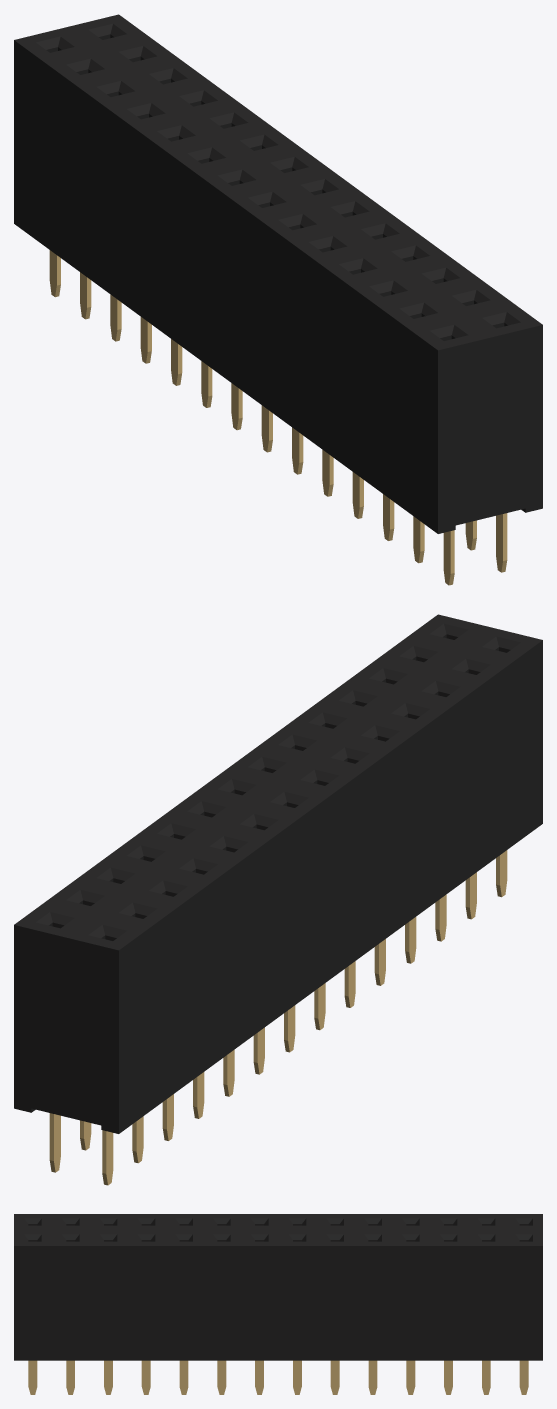
Rendered from kc-pinsocket_2x14_p2.54mm_vertical.glb.
The picture shows the model from 3 angles, top to bottom: view 1: azimuth 30°, elevation 25°; view 2: azimuth 150°, elevation 25°; view 3: azimuth 270°, elevation 25°; orthographic projection. The views are drawn at different scales.
Visible parts, largest first — view 1: 0_0_0_0, 0.75_0.5_0.25_0.9; view 2: 0_0_0_0, 0.75_0.5_0.25_0.9; view 3: 0_0_0_0, 0.75_0.5_0.25_0.9.
Boxes of the visible parts, box(x1,y1,x2,y2) form: 0_0_0_0: box(14, 14, 542, 533); 0.75_0.5_0.25_0.9: box(49, 250, 507, 585); 0_0_0_0: box(14, 614, 542, 1133); 0.75_0.5_0.25_0.9: box(49, 850, 507, 1185); 0_0_0_0: box(14, 1214, 542, 1360); 0.75_0.5_0.25_0.9: box(28, 1360, 528, 1394).
Bounding box in the file's own units: 0.5079 × 1.16 × 3.56.
